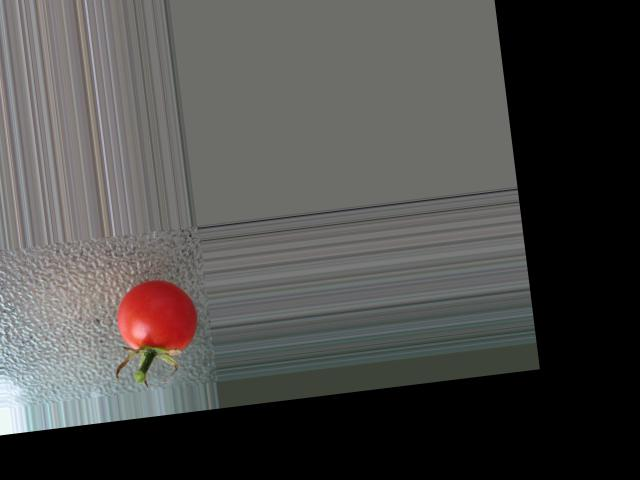tomato: (111, 274, 199, 357)
